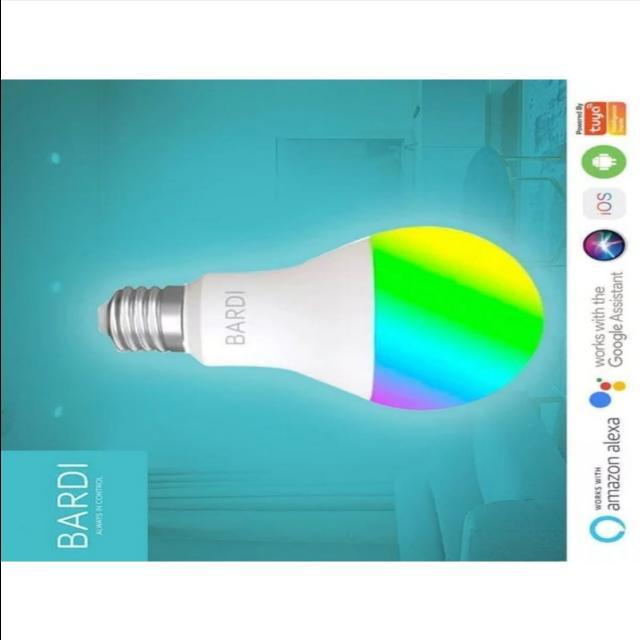light_bulb: (90, 224, 546, 416)
